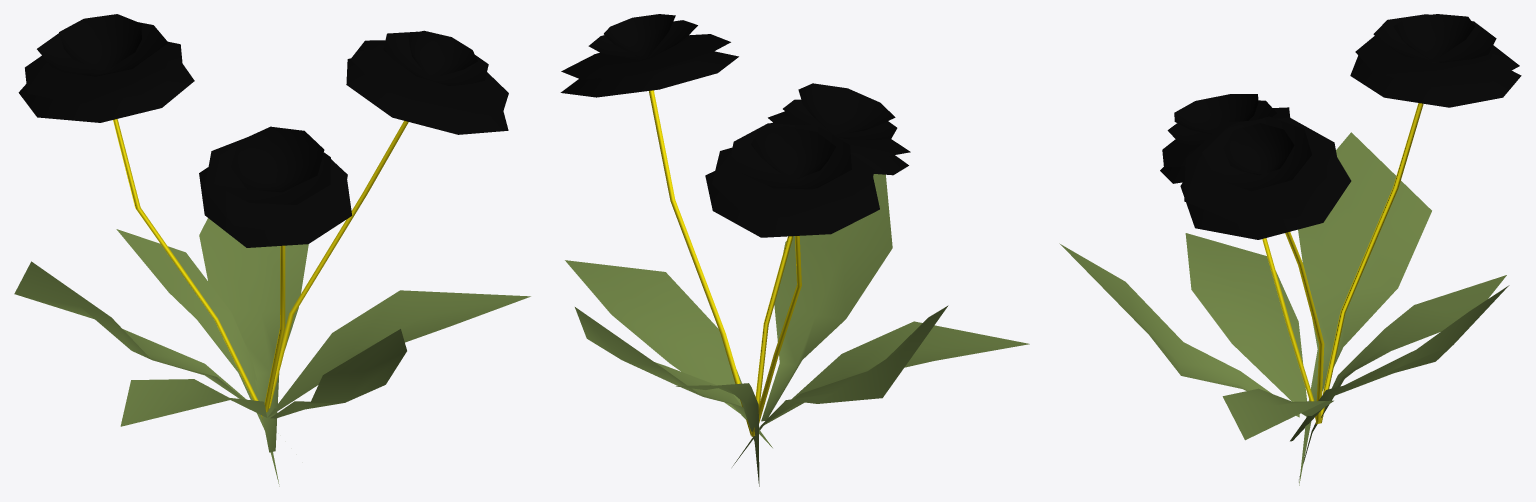
The model's file is Dandelion1.fbx.
3 renders of one model, left to right at view 1: azimuth 30°, elevation 25°; view 2: azimuth 150°, elevation 25°; view 3: azimuth 270°, elevation 25°, orthographic. The views are drawn at different scales.
Visible parts, largest first — view 1: Weed_Dandellion_A_spring-summer.062; view 2: Weed_Dandellion_A_spring-summer.062; view 3: Weed_Dandellion_A_spring-summer.062.
Boxes of the visible parts, box(x1,y1,x2,y2) form: Weed_Dandellion_A_spring-summer.062: box(14, 14, 530, 486); Weed_Dandellion_A_spring-summer.062: box(560, 14, 1029, 486); Weed_Dandellion_A_spring-summer.062: box(1059, 14, 1521, 485).
Size of the model in its own units: 83.85 by 77.57 by 78.41.
